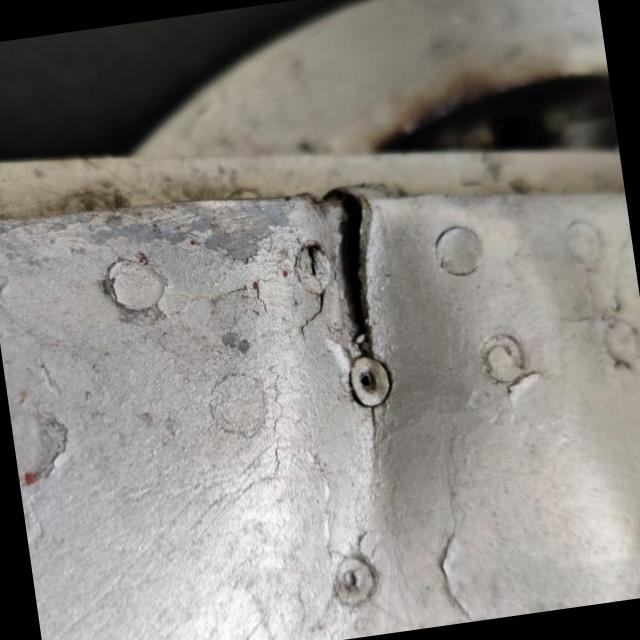crack: (278, 164, 432, 390)
